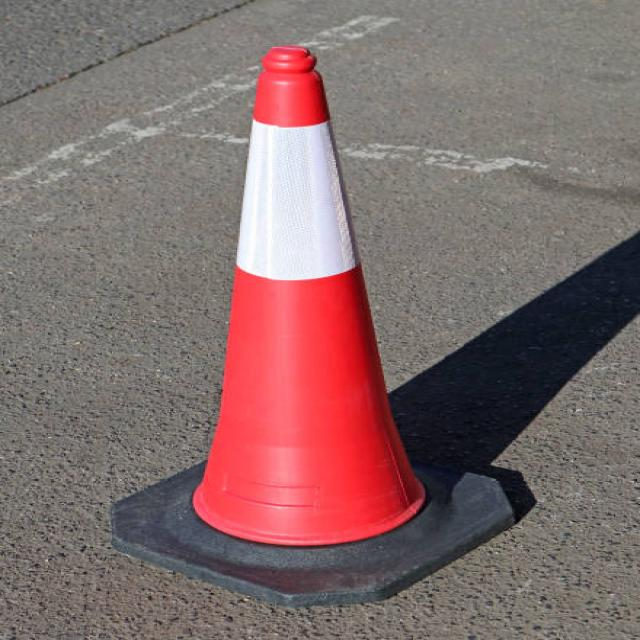Traffic Cone: (82, 17, 565, 640)
